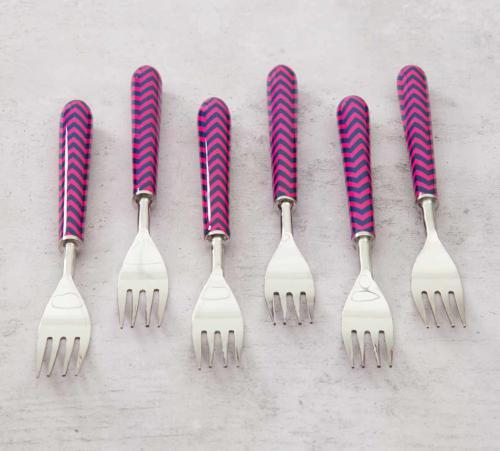Fork: (396, 64, 466, 328), (35, 99, 93, 378), (336, 95, 394, 369), (191, 97, 244, 369), (263, 64, 315, 327), (117, 66, 169, 328)
